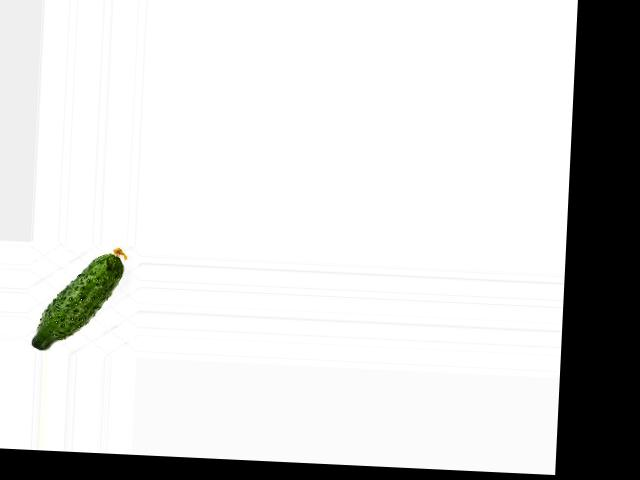cucumber: (30, 243, 127, 353)
